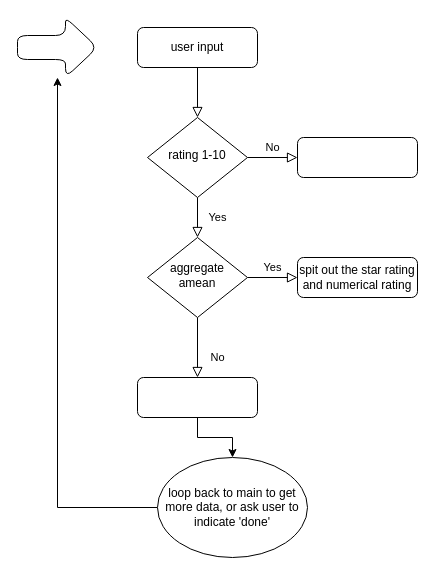
This 435x575 diagram has some shape labels left out. Each missing label, with the centre of its shape:
ask for validated input: point 197,397
error code - need a number within the value expectations: point 357,157
return: point 57,47
